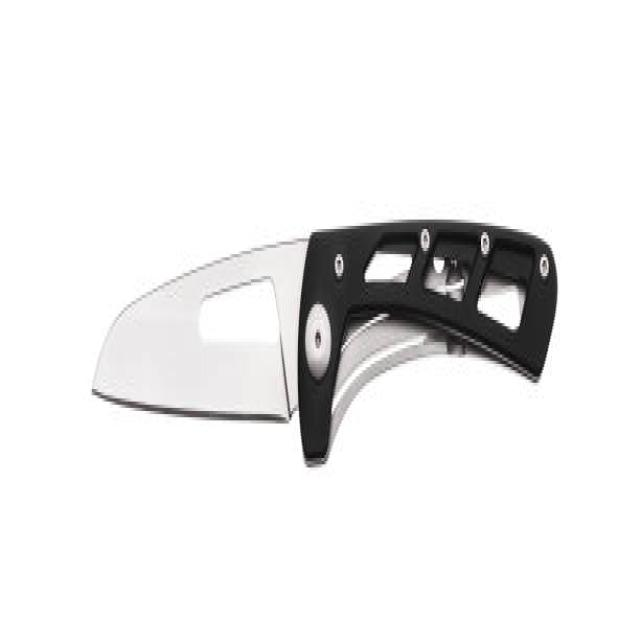knife: (88, 211, 564, 466)
